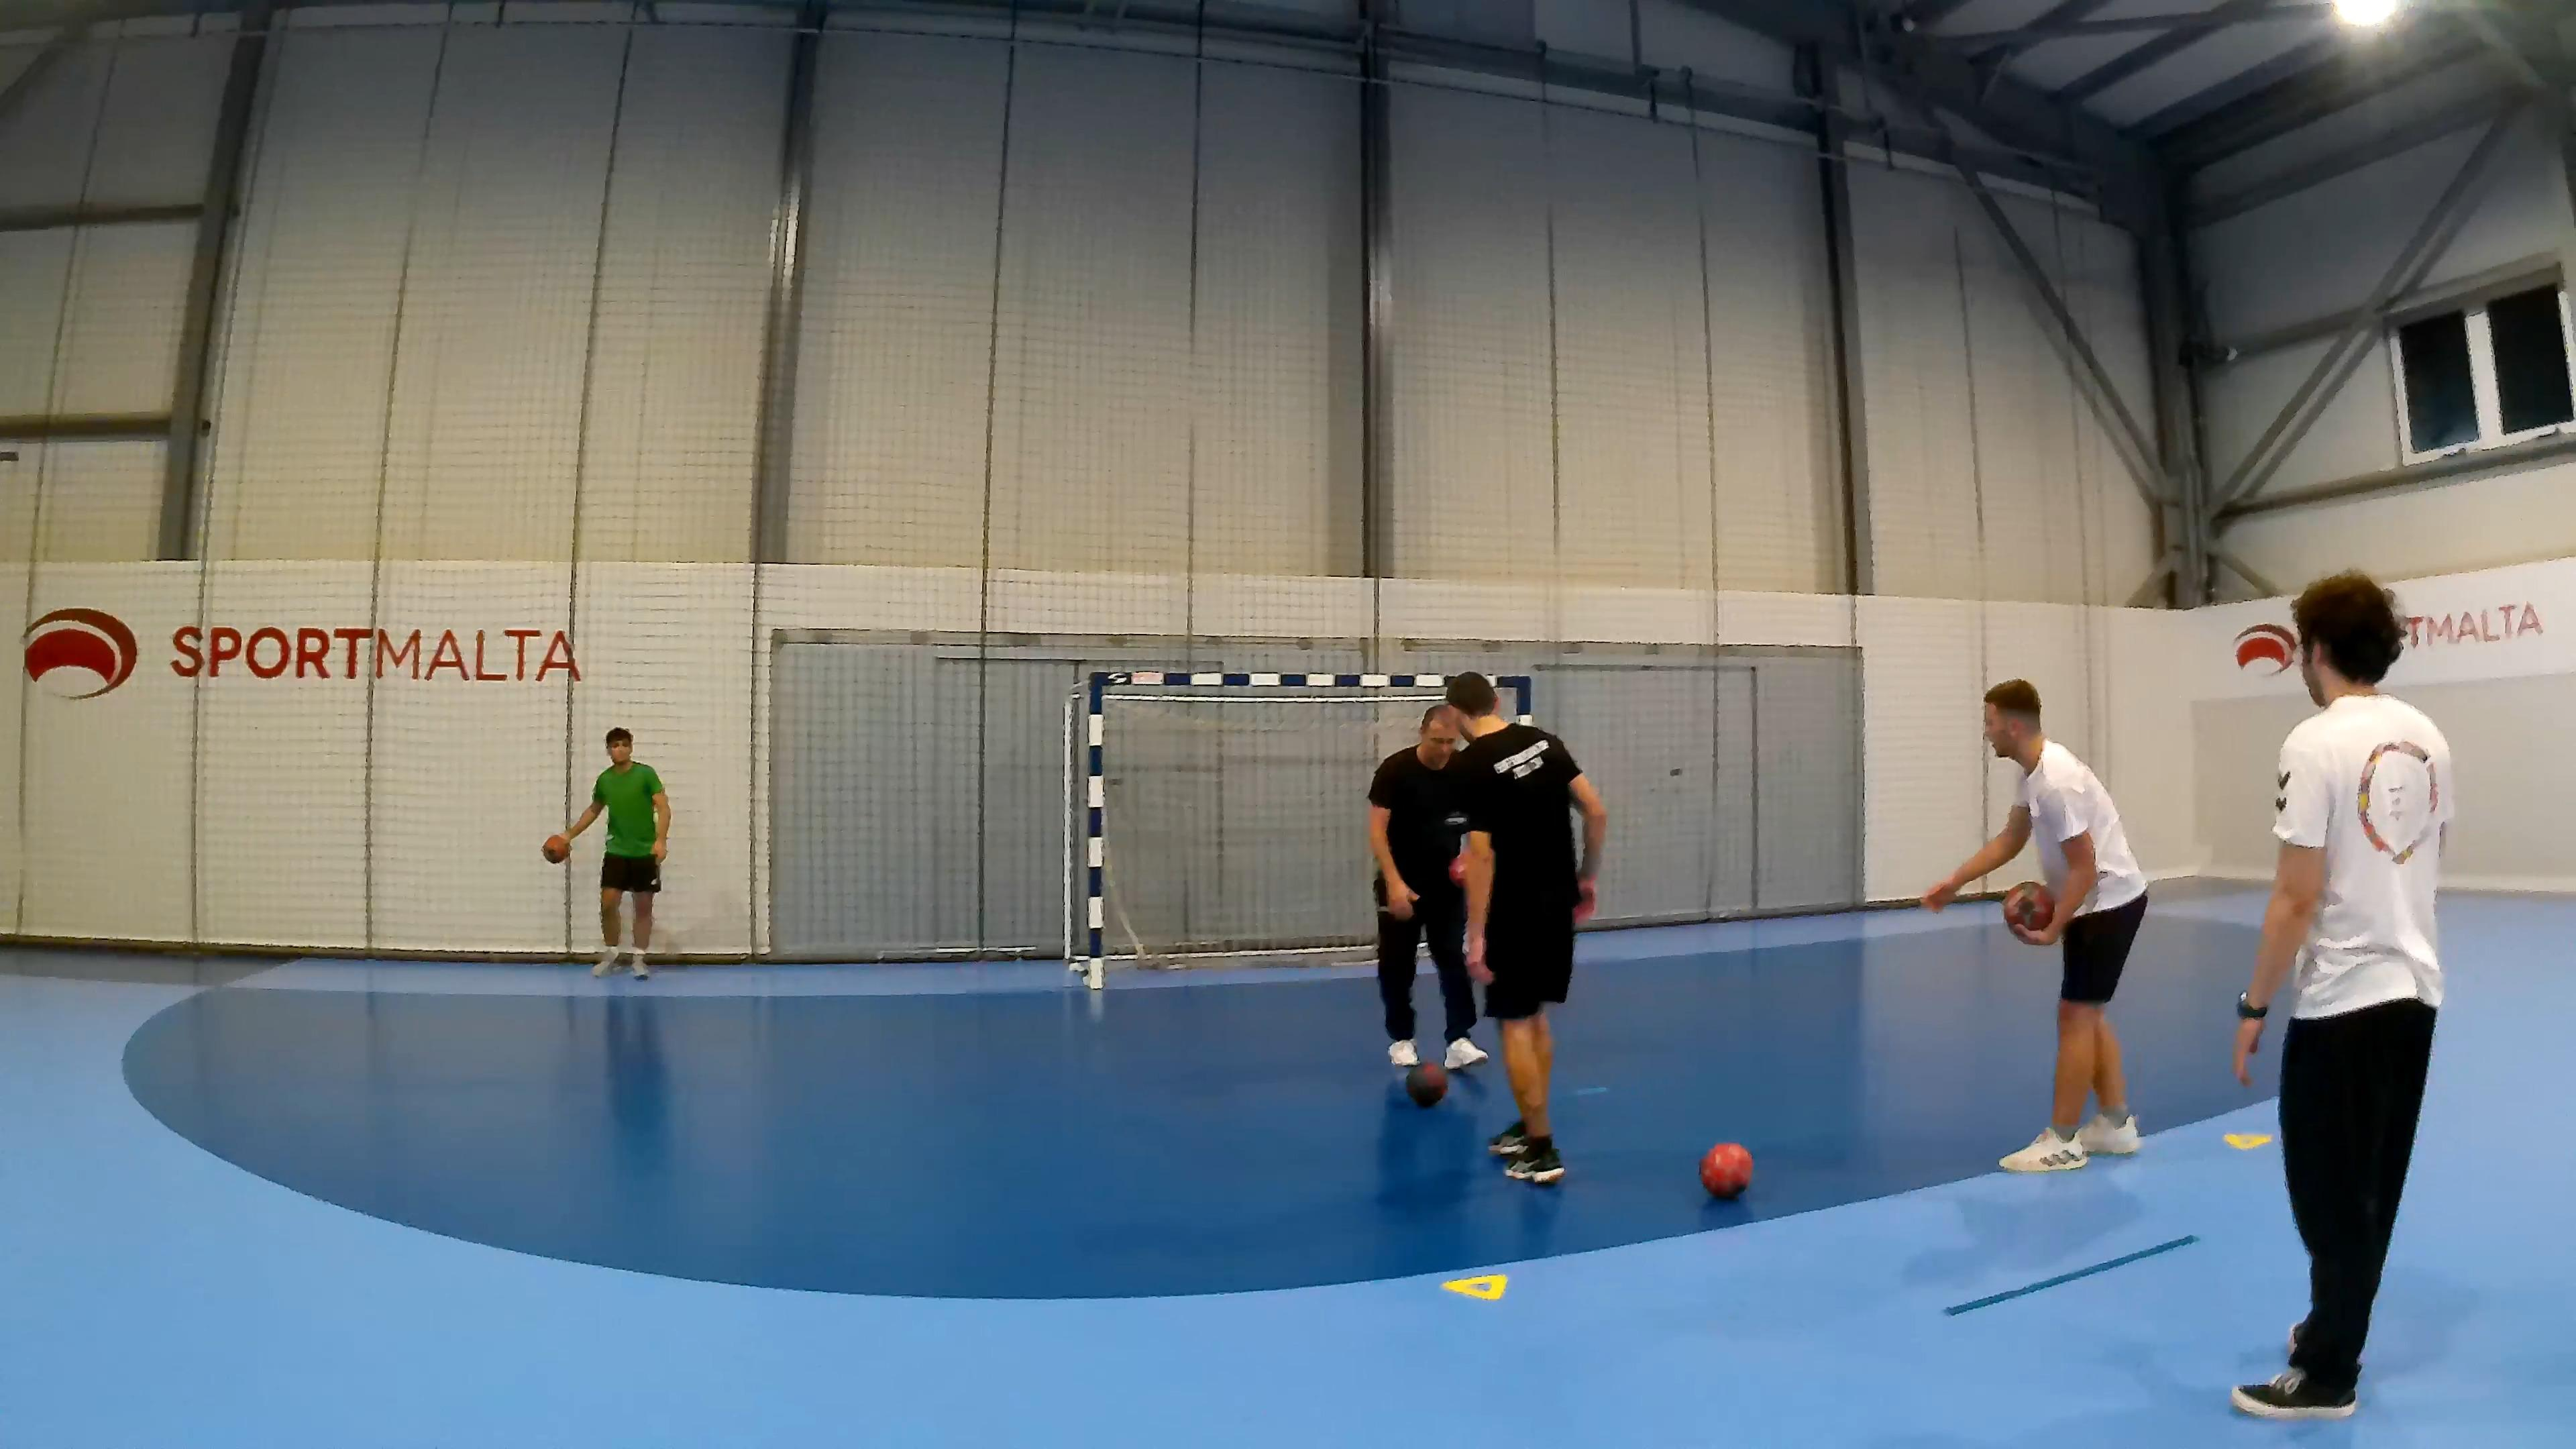handball: (1698, 1139, 1752, 1198), (2001, 881, 2054, 934), (1403, 1060, 1447, 1108), (541, 833, 570, 862)
